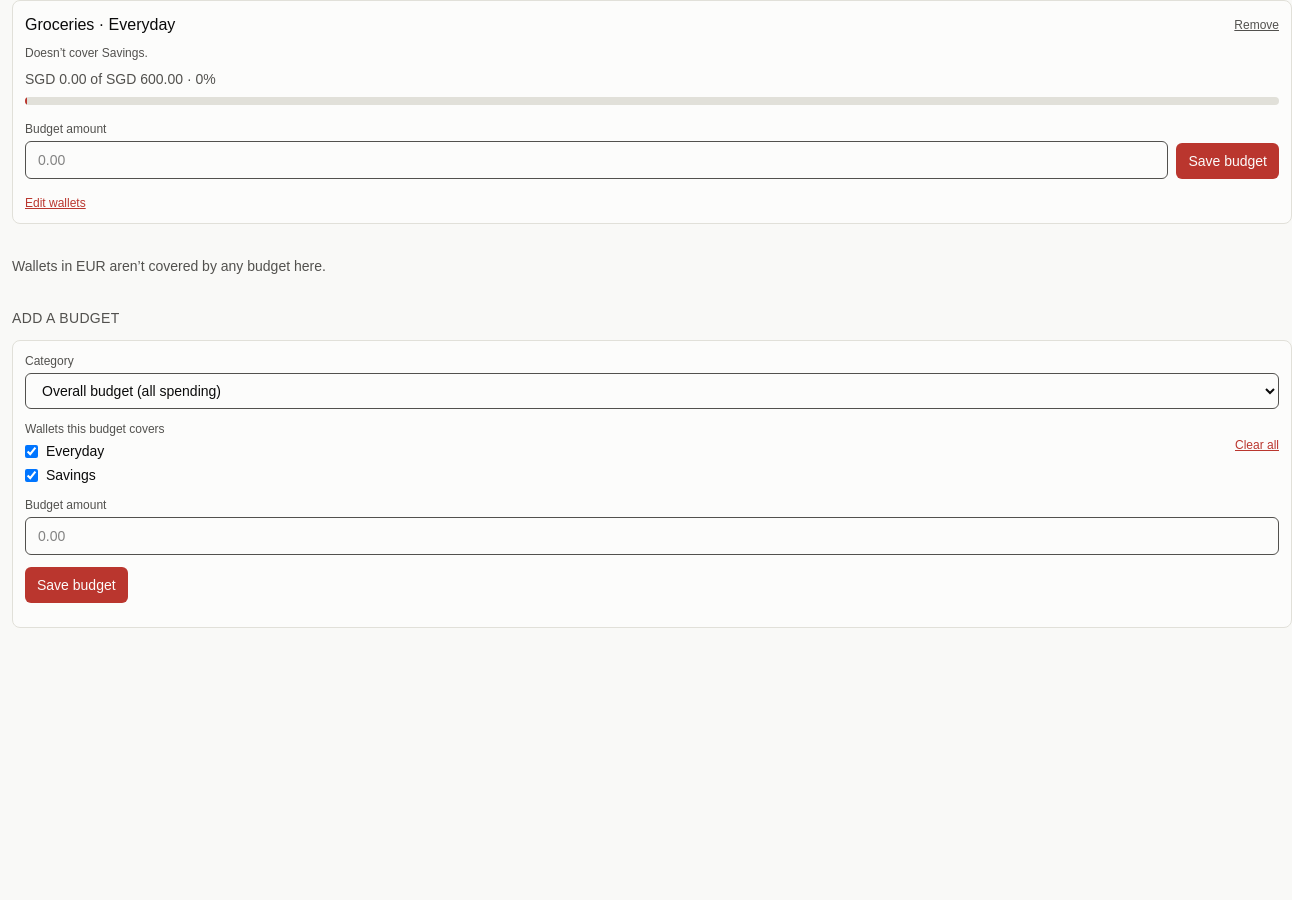
it: BudgetList — editing an existing budget's wallet set › keeps the row's wallet picker closed until Edit wallets is pressed, then pre-checks the row's REAL wallet ids
The width and height of the screenshot is (1292, 900).
Click the button with aria-label "Edit wallets for Groceries · Everyday": (55,203) [25, 195, 86, 211]
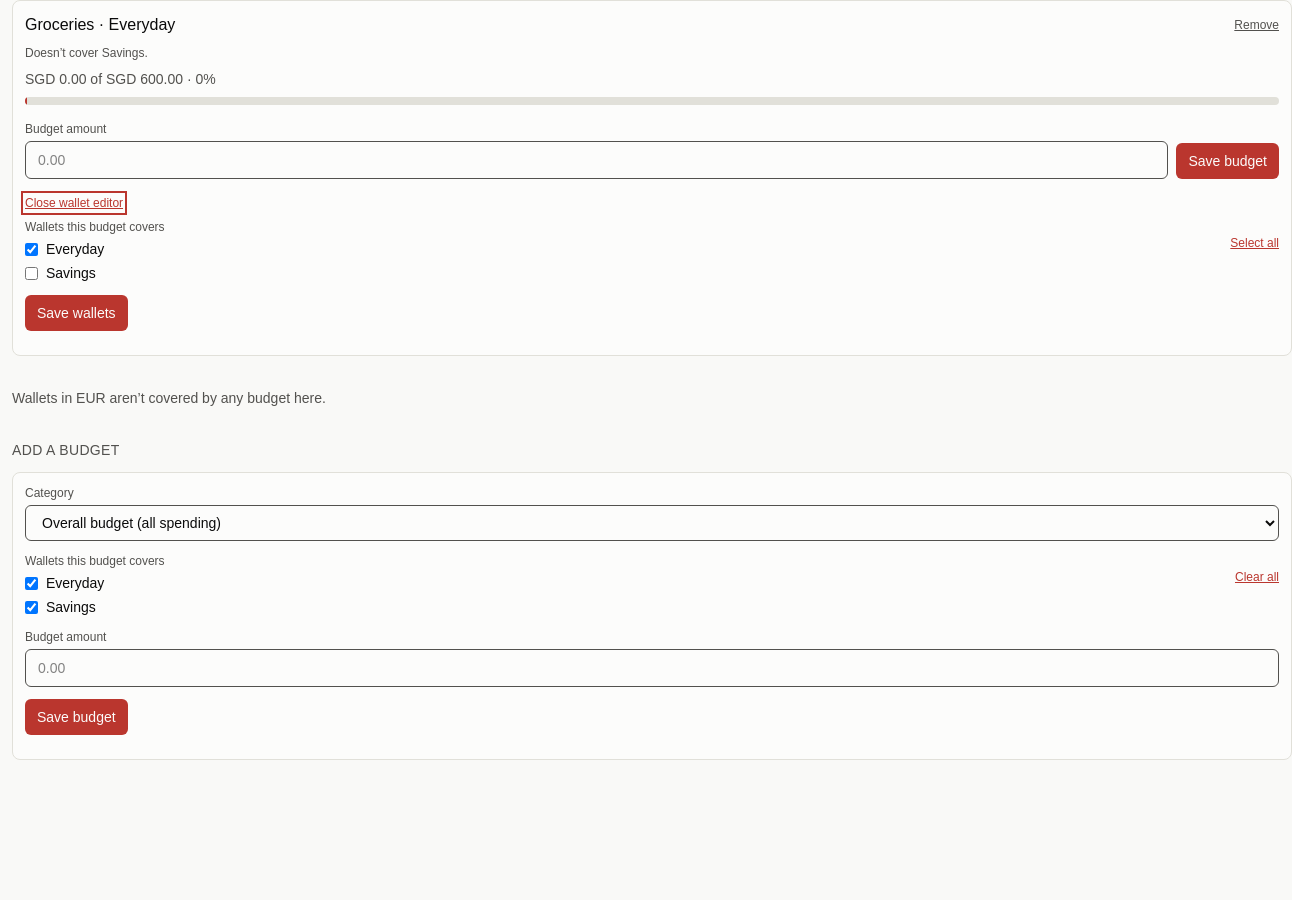
Now the checkbox labelled "Everyday" below "SGD 0.00" is checked, box [25, 242, 38, 256]
Now the checkbox labelled "Savings" below "SGD 0.00" is not checked, box [25, 266, 38, 280]
